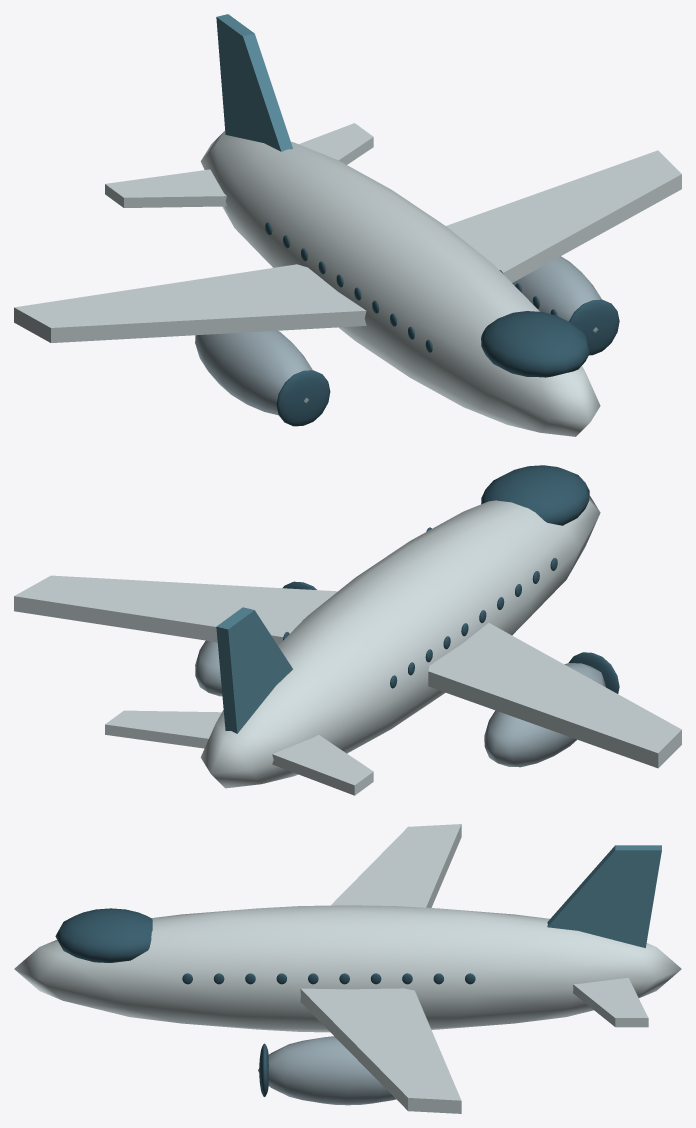
The model's file is uita-airliner.glb.
3 renders of one model, top to bottom at view 1: azimuth 30°, elevation 25°; view 2: azimuth 150°, elevation 25°; view 3: azimuth 270°, elevation 25°, orthographic. The views are drawn at different scales.
Parts seen in each view (by area): view 1: Streamlined fuselage; view 2: Streamlined fuselage; view 3: Streamlined fuselage.
Part boxes in pixels (left/top/right/bottom): Streamlined fuselage: left=14, top=14, right=681, bottom=436; Streamlined fuselage: left=14, top=465, right=681, bottom=795; Streamlined fuselage: left=14, top=824, right=681, bottom=1113.
Size of the model in its own units: 0.98 by 0.317 by 1.
